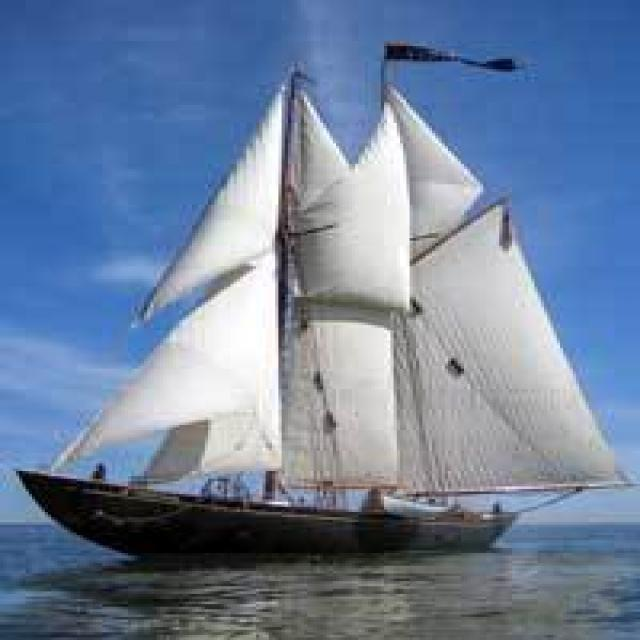Ship: (30, 73, 624, 563)
